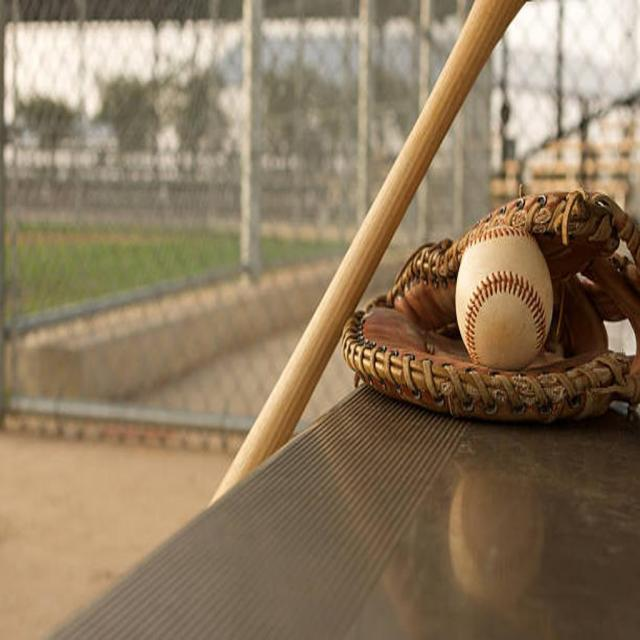baseball: (454, 222, 556, 369)
